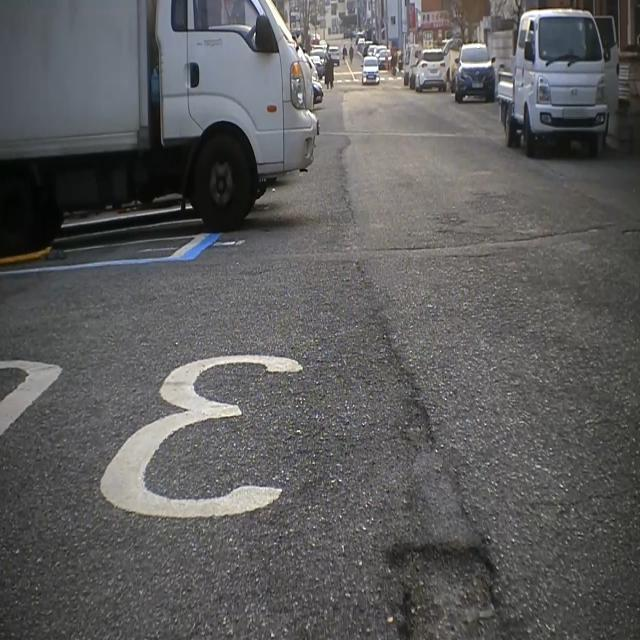pothole: (350, 515, 509, 640)
